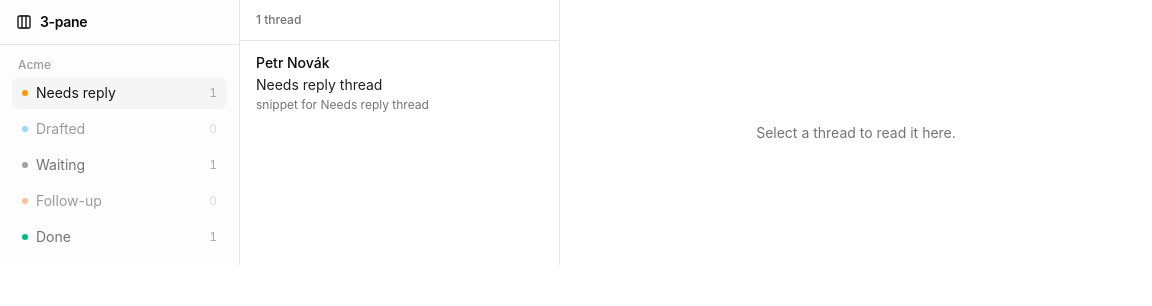
Test: ThreePanePage — fallback never loses a thread (PROJECT.md §11) › a thread that lives in a non-default state group is still reachable + reads via the LOCAL body hop
Click the button "Done 1" at x=120, y=237, box [12, 221, 227, 253]
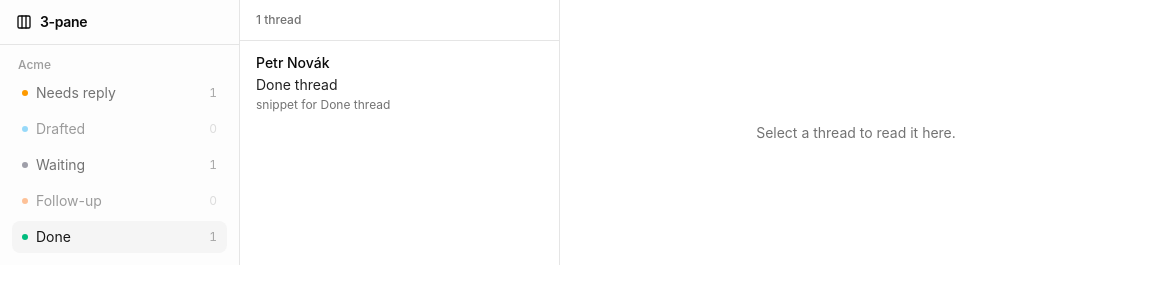
Click the text "Done thread" at x=297, y=84, box [256, 76, 338, 93]
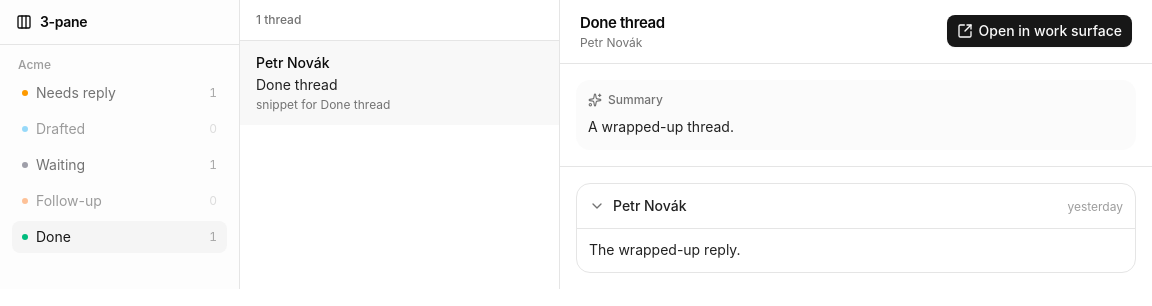
expect the text "A wrapped-up thread." is shown: met, box [588, 118, 734, 134]
expect the text "The wrapped-up reply." is shown: met, box [589, 241, 741, 258]
